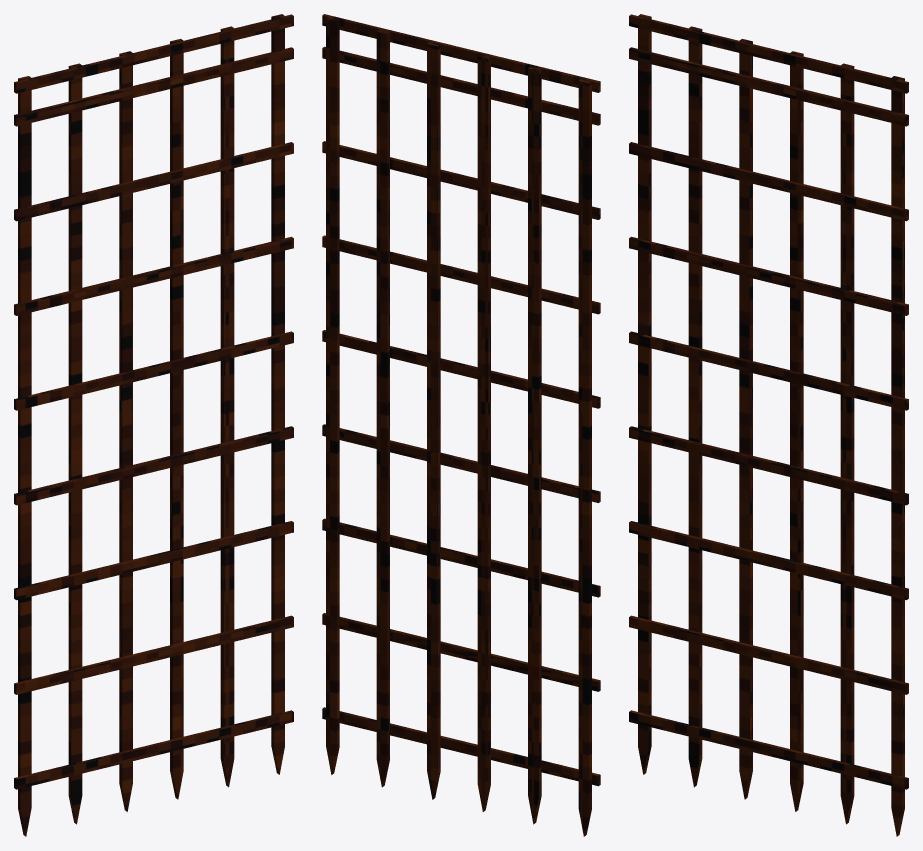
File: portcullis.glb
3 views of the same model, side by side, from view 1: azimuth 30°, elevation 25°; view 2: azimuth 150°, elevation 25°; view 3: azimuth 330°, elevation 25° (orthographic).
Visible parts, largest first — view 1: portcullis; view 2: portcullis; view 3: portcullis.
Part boxes in pixels (<box>): portcullis: <box>14,14,293,836</box>; portcullis: <box>322,14,600,836</box>; portcullis: <box>629,14,908,836</box>.
Bounding box in the file's own units: 2.3 × 6 × 0.07.
Materials: 1 (1 with a texture image).
